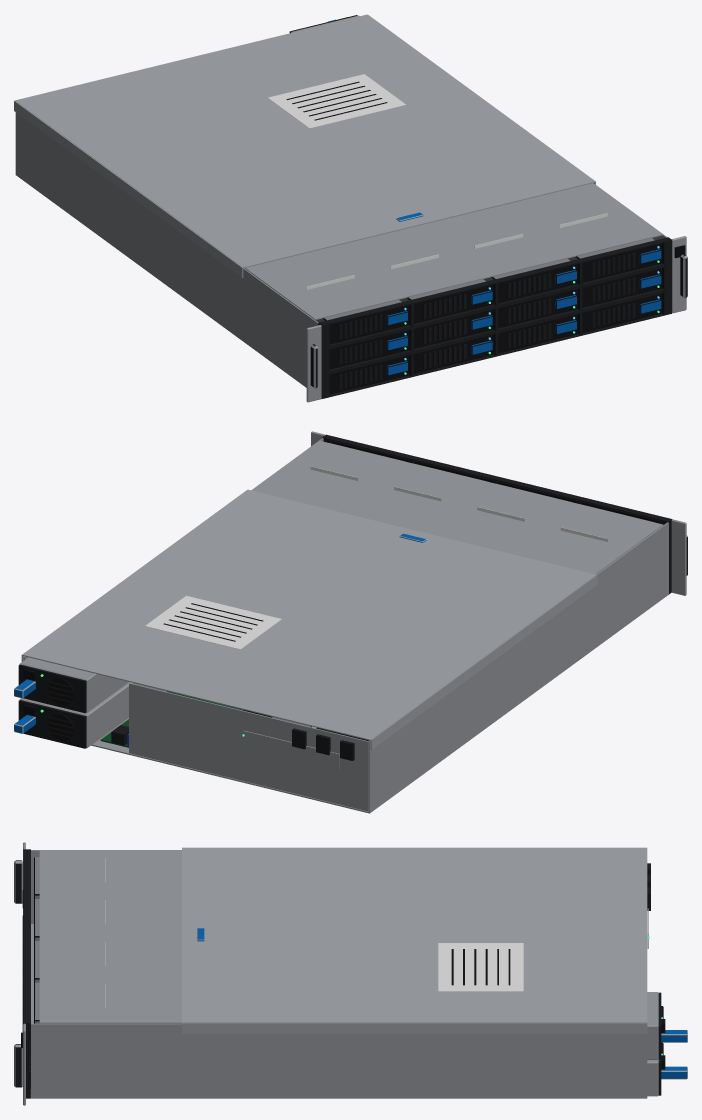
Rendered from server.glb.
3 views of the same model, one above another, from view 1: azimuth 30°, elevation 25°; view 2: azimuth 150°, elevation 25°; view 3: azimuth 270°, elevation 25° (orthographic). The views are drawn at different scales.
Visible parts, largest first — view 1: cover-1, chassis-1, bezel-1, drive-12, drive-09, drive-11, drive-10, drive-01, drive-05, drive-04, drive-08, drive-06 (+3 smaller); view 2: cover-1, chassis-1, psu-1, psu-2, bezel-1, pcie-1; view 3: cover-1, chassis-1, bezel-1, psu-2, psu-1.
Part boxes in pixels (x1,y1,x2,y2): cover-1: (14, 14, 595, 277); chassis-1: (15, 112, 687, 402); bezel-1: (318, 237, 671, 398); drive-12: (559, 213, 662, 282); drive-09: (306, 275, 409, 344); drive-11: (474, 234, 577, 303); drive-10: (390, 254, 493, 323); drive-01: (329, 355, 409, 394); drive-05: (329, 330, 409, 369); drive-04: (582, 293, 662, 332); drive-08: (582, 268, 662, 307); drive-06: (414, 309, 493, 348); cover-1: (21, 489, 597, 749); chassis-1: (23, 431, 687, 813); psu-1: (14, 682, 165, 748); psu-2: (14, 657, 128, 713); bezel-1: (322, 434, 672, 594); pcie-1: (242, 710, 368, 769); cover-1: (182, 847, 647, 1033); chassis-1: (14, 842, 650, 1105); bezel-1: (23, 849, 30, 1098); psu-2: (647, 992, 687, 1059); psu-1: (647, 1042, 687, 1096).
Size of the model in its own units: 0.47 by 0.0913 by 0.71.
